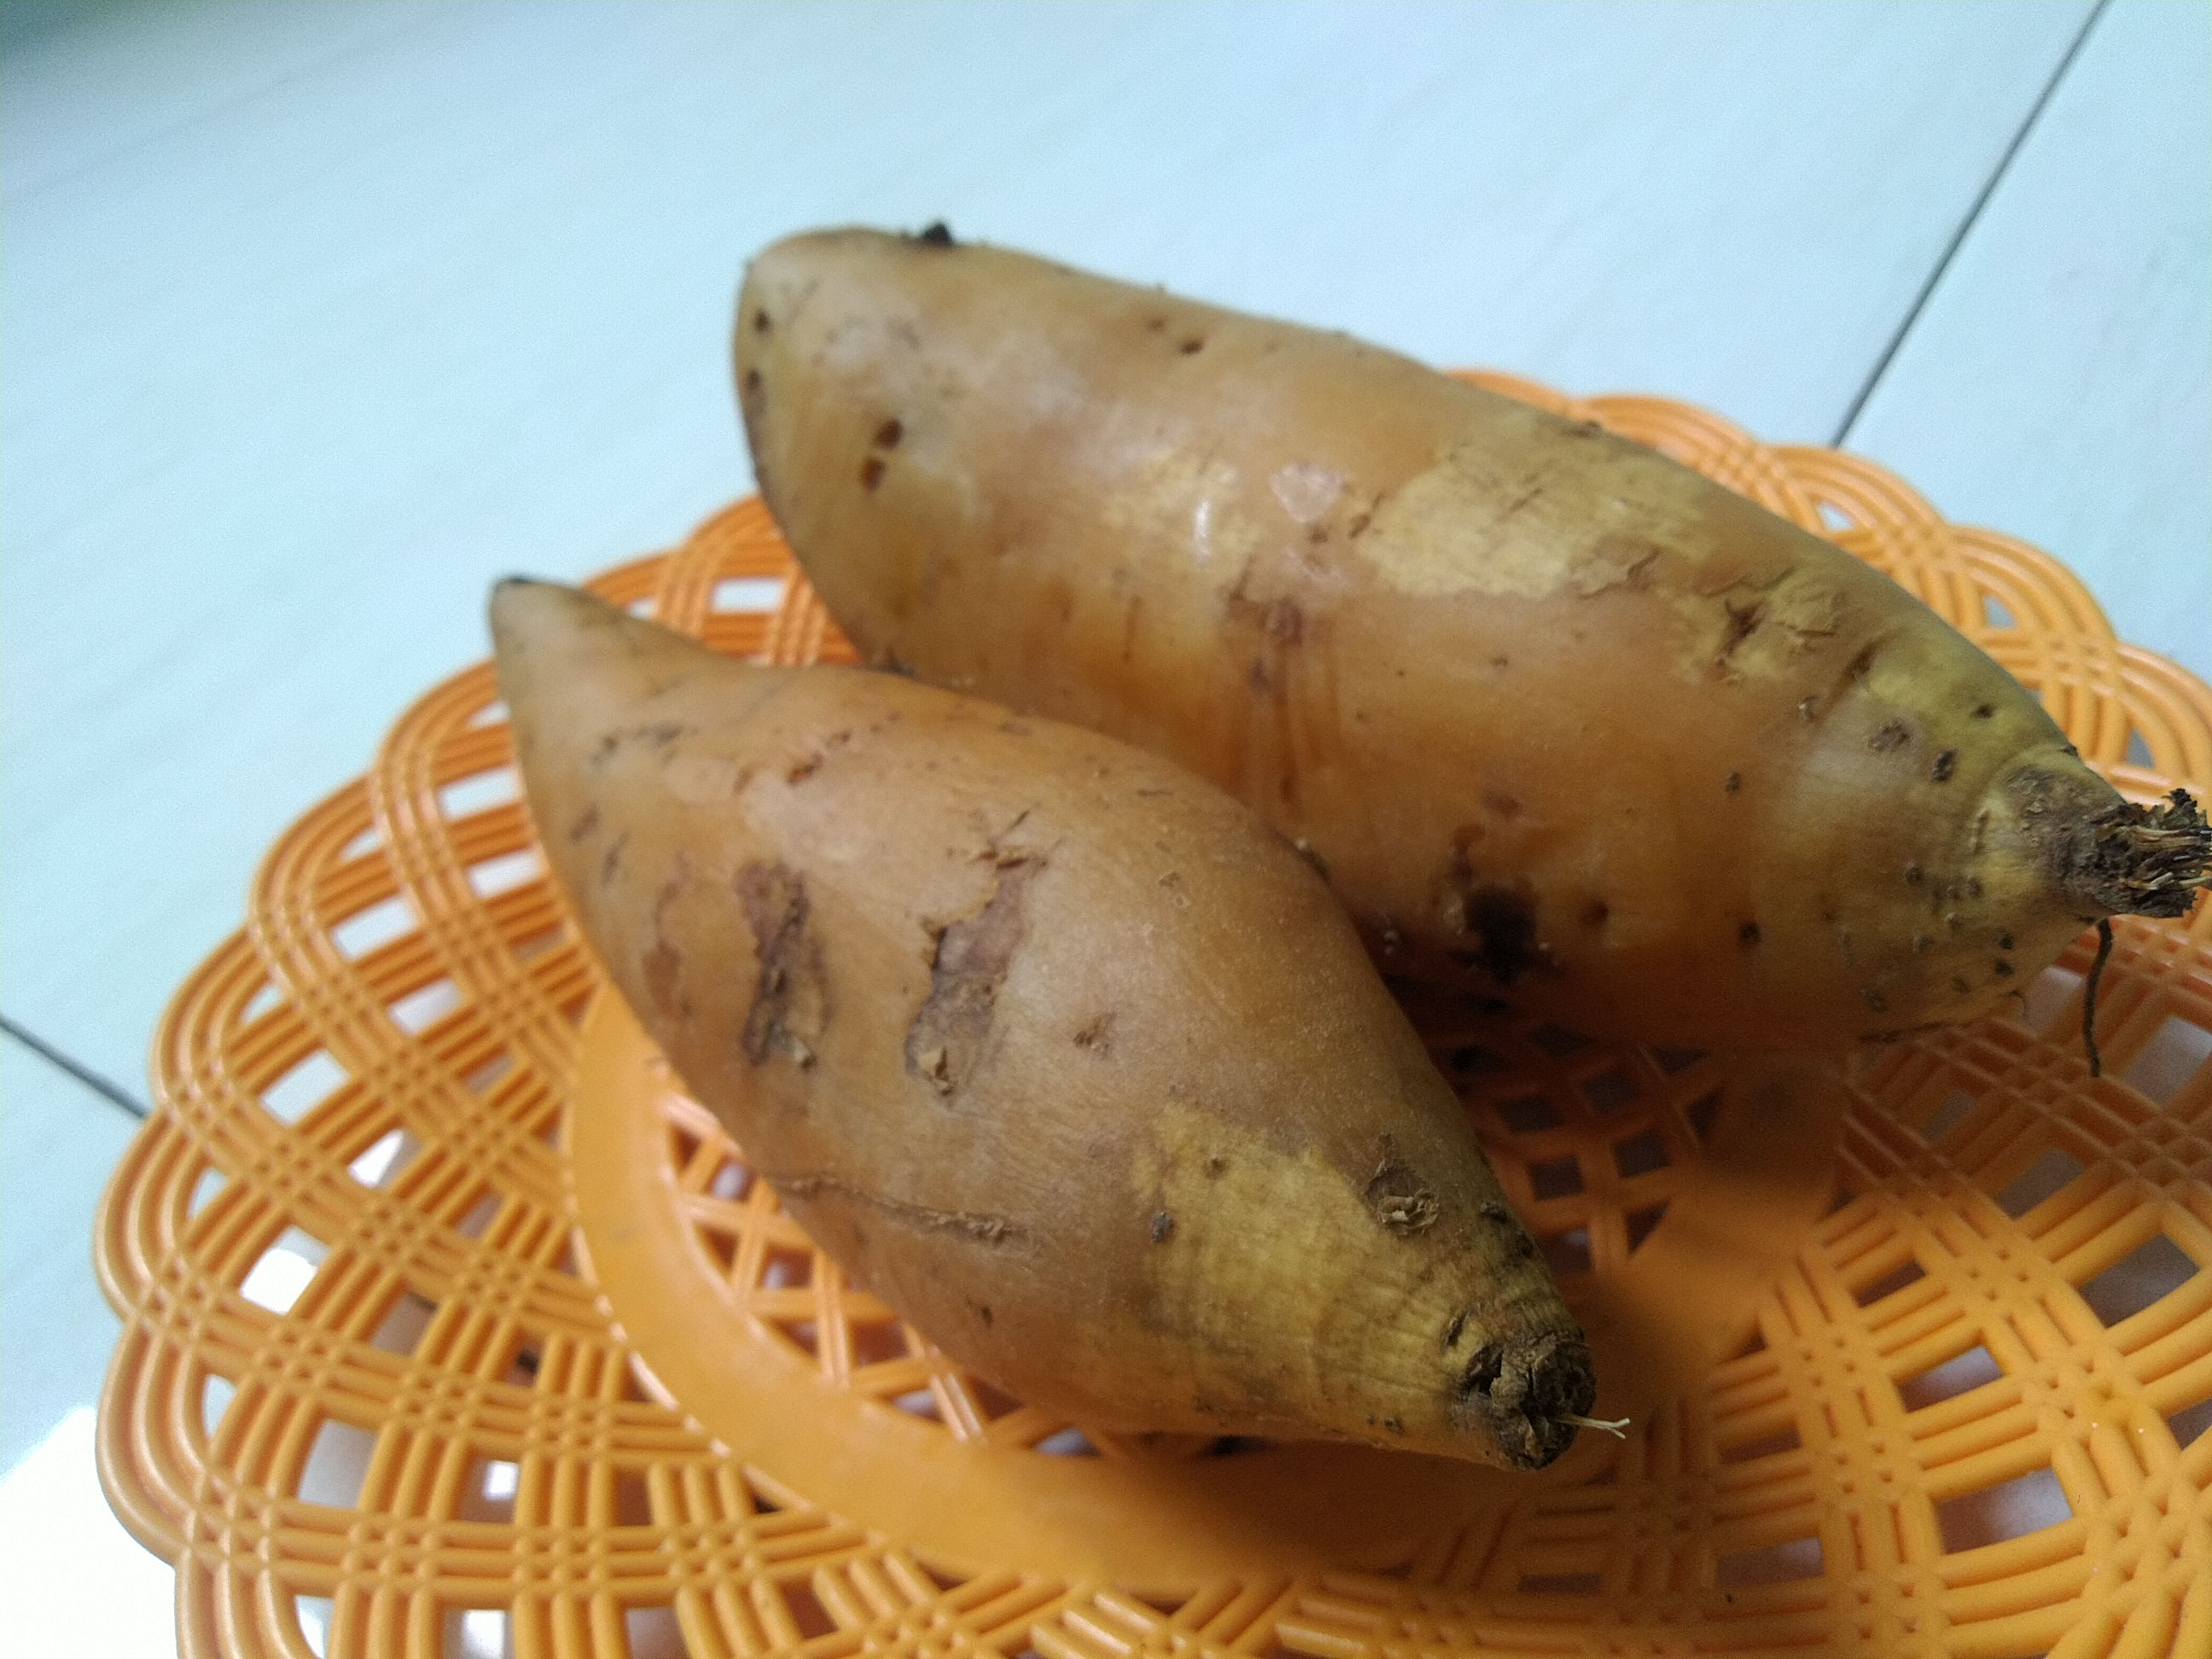ubi cilembu: (718, 218, 2168, 1061), (463, 570, 1648, 1509)
